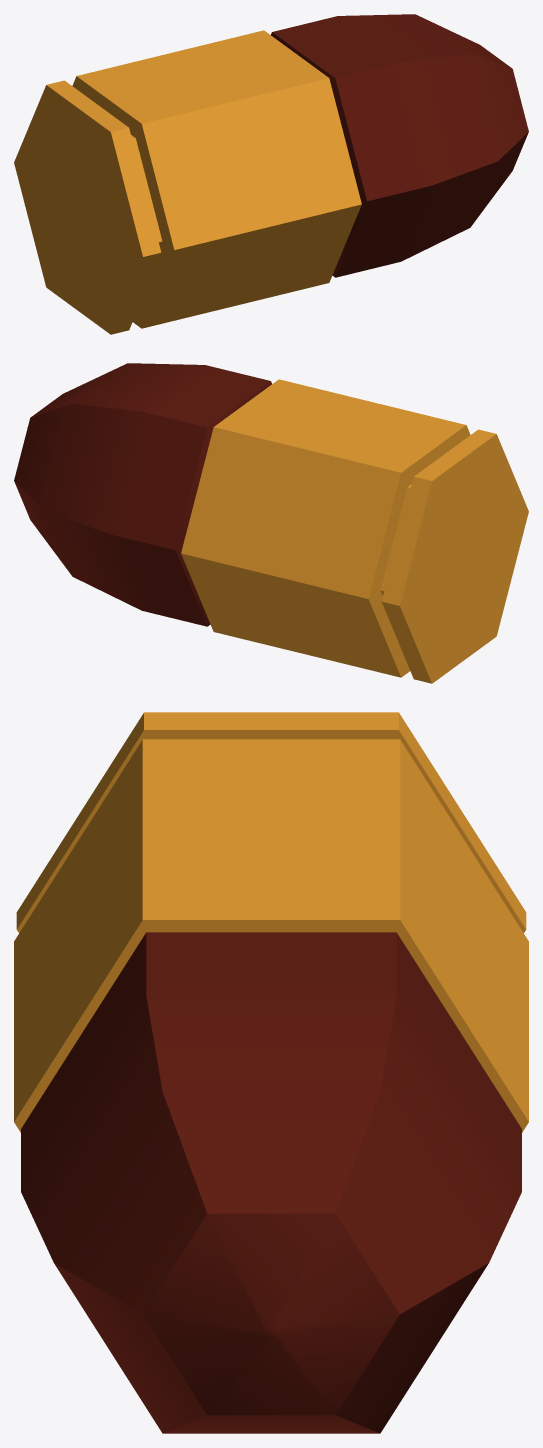
Rendered from BuModesl.fbx.
3 views of the same model, one above another, from view 1: azimuth 30°, elevation 25°; view 2: azimuth 150°, elevation 25°; view 3: azimuth 270°, elevation 25° (orthographic). The views are drawn at different scales.
Parts seen in each view (by area): view 1: Zylinder; view 2: Zylinder; view 3: Zylinder.
Part boxes in pixels (<box>): Zylinder: <box>14,14,528,334</box>; Zylinder: <box>14,363,528,683</box>; Zylinder: <box>14,712,528,1433</box>.
Size of the model in its own units: 24.07 by 10.77 by 12.44.
